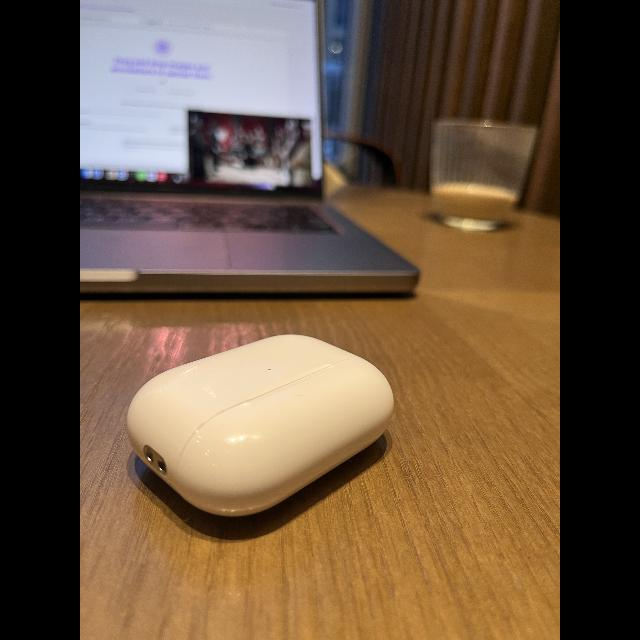AirPods Pro: (123, 327, 399, 545)
